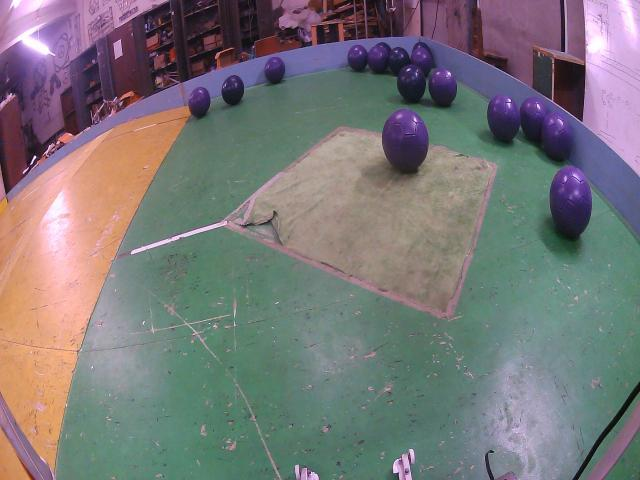jambhalya: (381, 108, 429, 172), (550, 167, 591, 237), (488, 95, 520, 142), (541, 112, 571, 160), (520, 97, 548, 142), (429, 68, 458, 107), (410, 47, 432, 77), (189, 87, 210, 118), (368, 45, 389, 73), (264, 57, 285, 83), (348, 45, 368, 72)
kaalyya: (398, 65, 426, 103), (221, 75, 244, 105), (388, 47, 410, 75), (412, 42, 430, 52), (376, 42, 391, 53)
